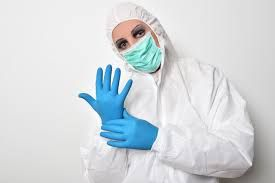with-mask: (106, 19, 166, 77)
